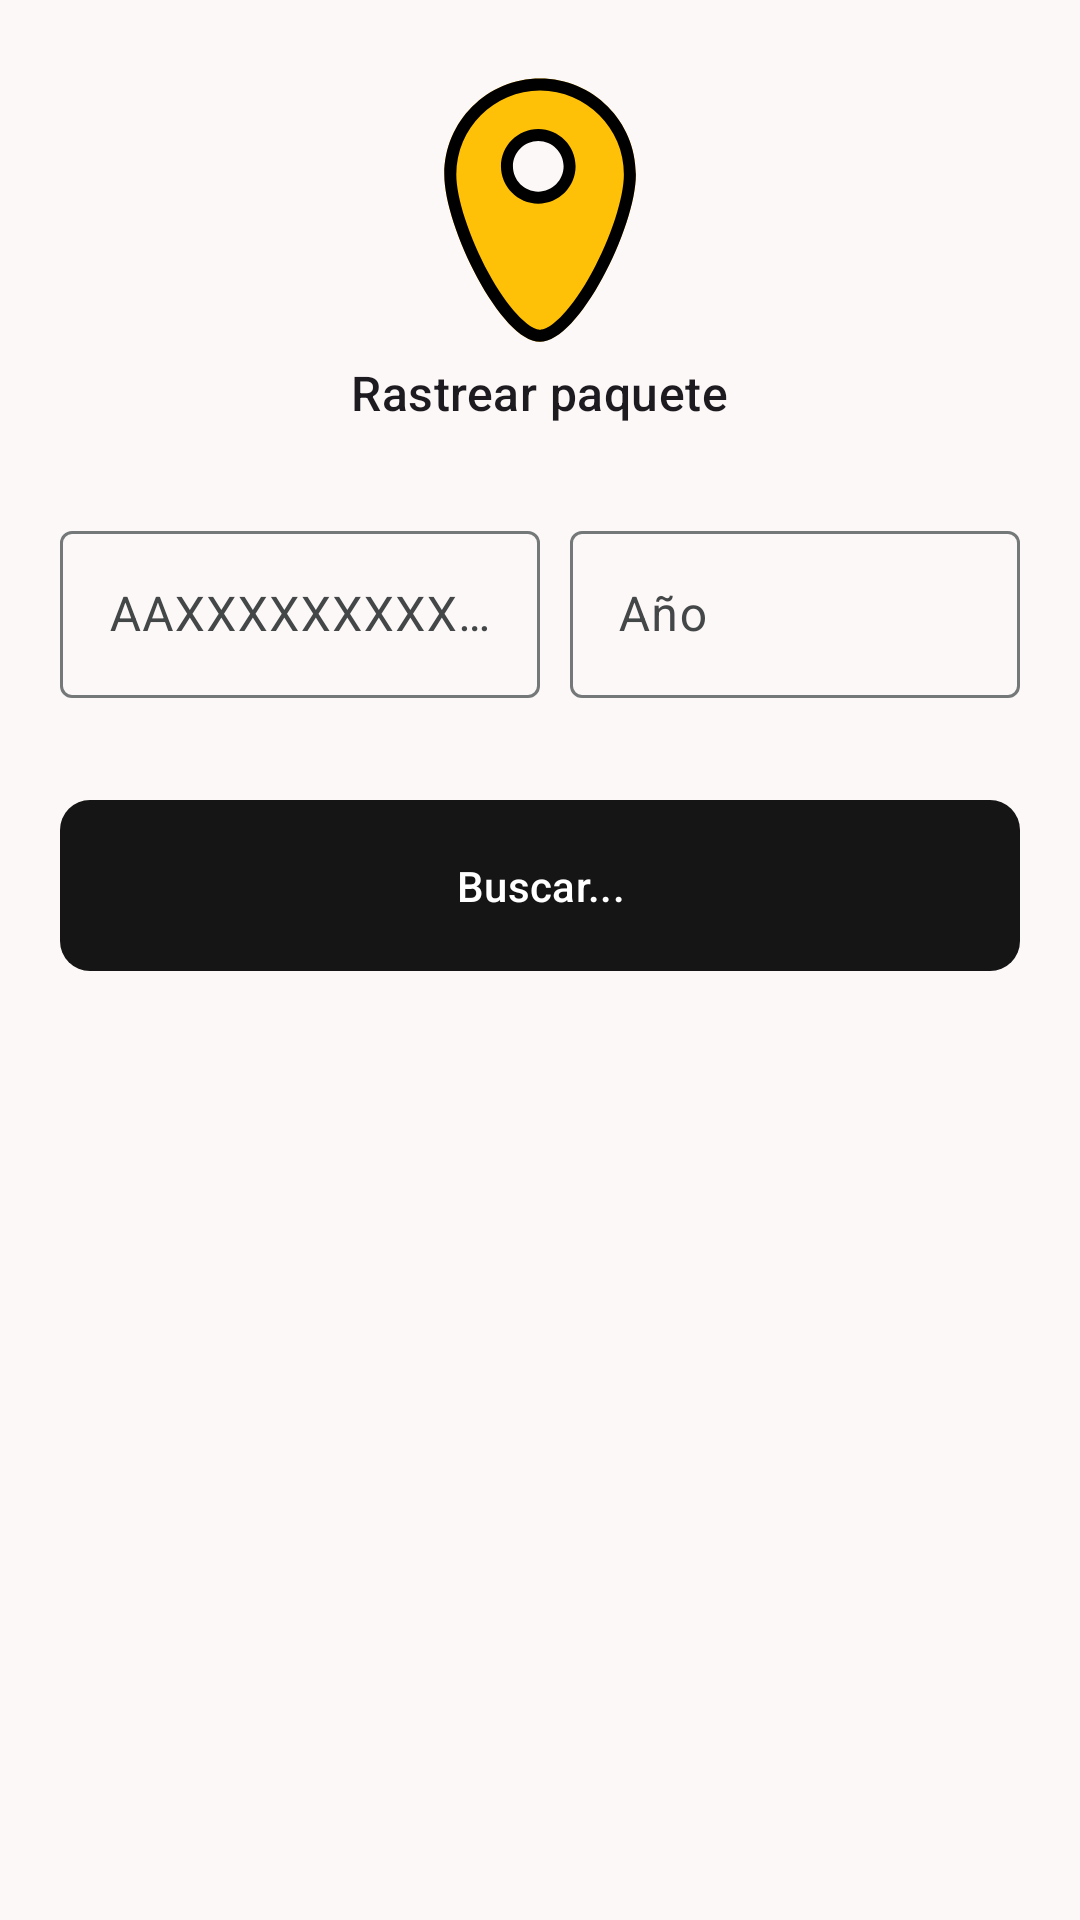

Screen size 1080x1920. Icon name, then its center in pixels as (x,y):
locate: (540,210)
